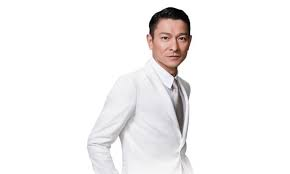eye: (160, 35, 170, 40), (177, 36, 187, 41)
mouth: (164, 54, 182, 59)
nose: (168, 46, 180, 52)
